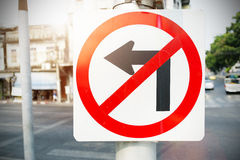No_left_turn: (75, 11, 204, 139)
